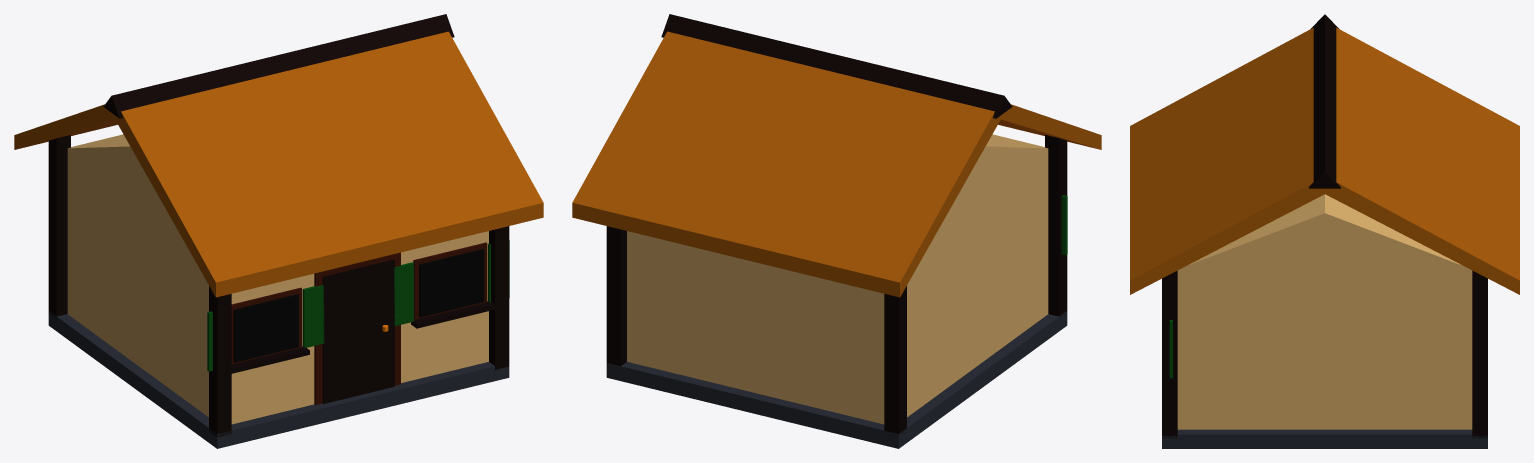
File: zoo_kit.glb
3 renders of one model, left to right at view 1: azimuth 30°, elevation 25°; view 2: azimuth 150°, elevation 25°; view 3: azimuth 270°, elevation 25°, orthographic. The views are drawn at different scales.
Parts seen in each view (by area): view 1: SM_ZooHut; view 2: SM_ZooHut; view 3: SM_ZooHut.
Boxes of the visible parts, left/top/right/bottom form: SM_ZooHut: left=14, top=14, right=543, bottom=448; SM_ZooHut: left=572, top=14, right=1101, bottom=448; SM_ZooHut: left=1130, top=14, right=1519, bottom=448.
Size of the model in its own units: 4.7 by 3.98 by 4.9.
6 materials, 6 textured.
